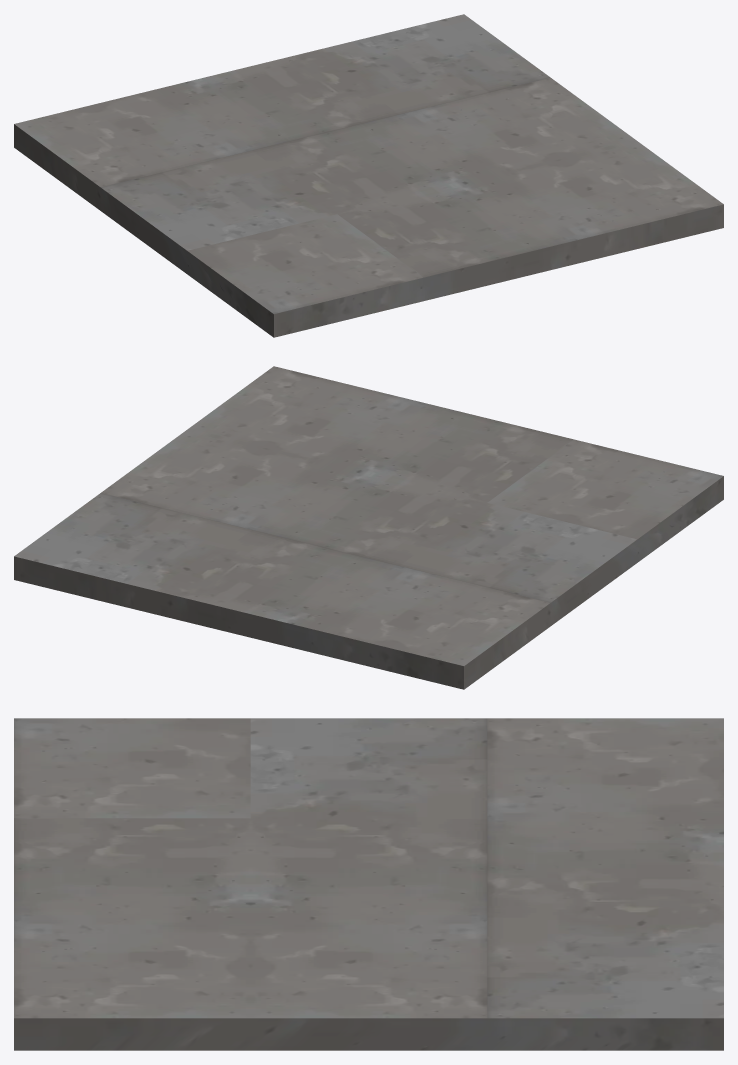
File: Sidewalk_NoCurb_3m.glb
3 renders of one model, top to bottom at view 1: azimuth 30°, elevation 25°; view 2: azimuth 150°, elevation 25°; view 3: azimuth 270°, elevation 25°, orthographic. The views are drawn at different scales.
Parts seen in each view (by area): view 1: Sidewalk_NoCurb_3m; view 2: Sidewalk_NoCurb_3m; view 3: Sidewalk_NoCurb_3m.
Part boxes in pixels (x1,y1,x2,y2): Sidewalk_NoCurb_3m: (14, 14, 723, 337); Sidewalk_NoCurb_3m: (14, 366, 723, 689); Sidewalk_NoCurb_3m: (14, 718, 723, 1050).
Bounding box in the file's own units: 3 × 0.15 × 3.
Materials: 1 (1 with a texture image).
